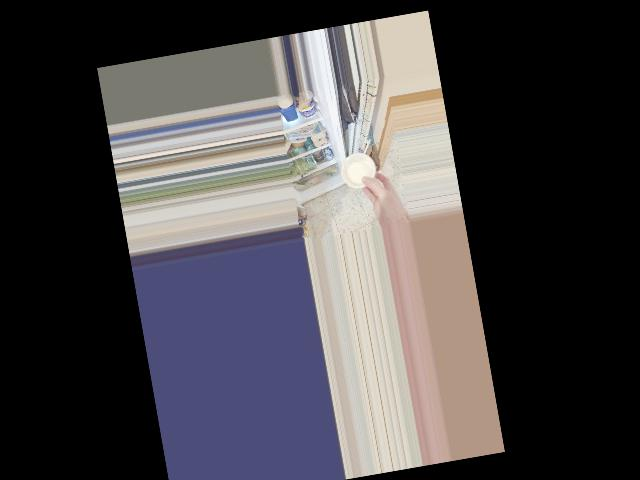cotage: (341, 149, 382, 190)
